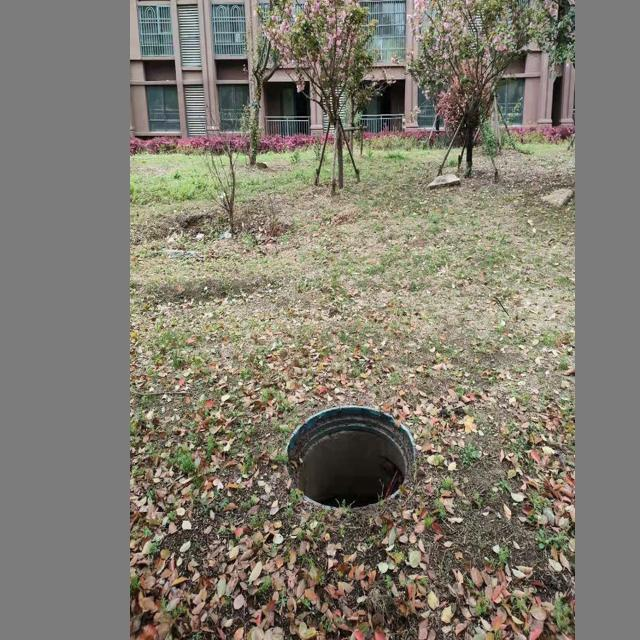lose: (286, 406, 415, 512)
